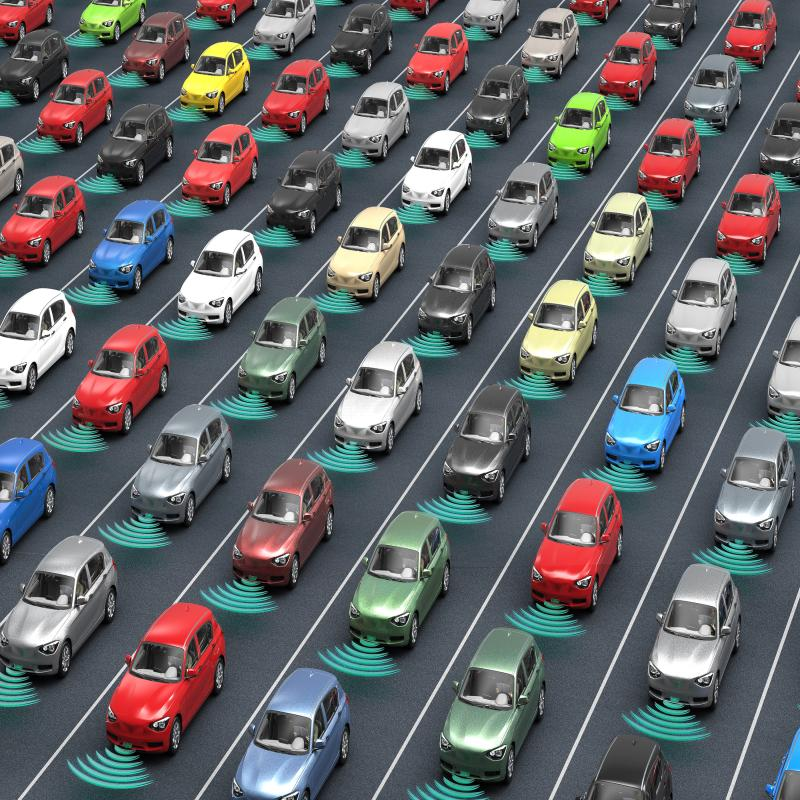car: (116, 611, 222, 769), (367, 455, 434, 634), (439, 364, 526, 498), (255, 670, 329, 800), (254, 300, 324, 427), (512, 266, 578, 397), (251, 445, 316, 568), (149, 400, 210, 513), (182, 229, 242, 333)
